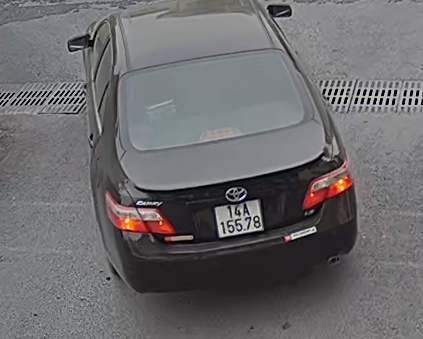vehicle plate: (212, 197, 264, 238)
